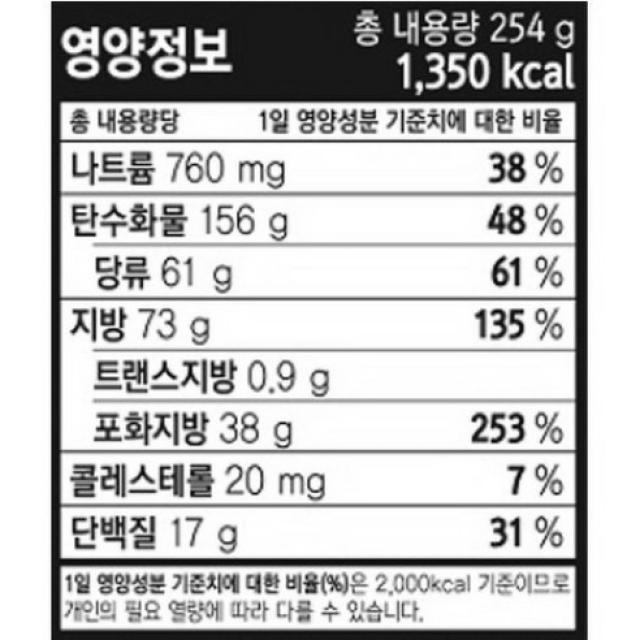Nutrition Label: (41, 0, 604, 640)
